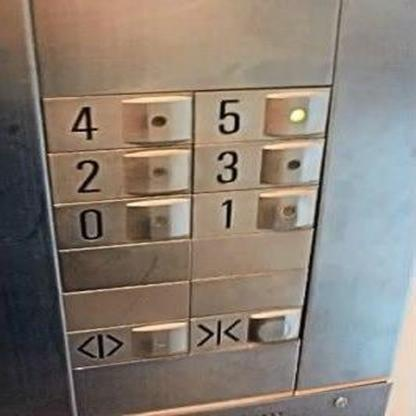0: (48, 190, 196, 252)
1: (185, 182, 325, 242)
2: (42, 140, 198, 206)
3: (187, 133, 330, 196)
4: (36, 88, 198, 154)
5: (190, 81, 336, 147)
close: (185, 303, 308, 356)
open: (62, 316, 193, 372)
